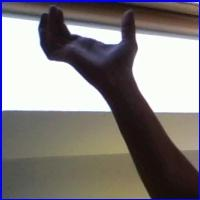space: (28, 3, 152, 85)
